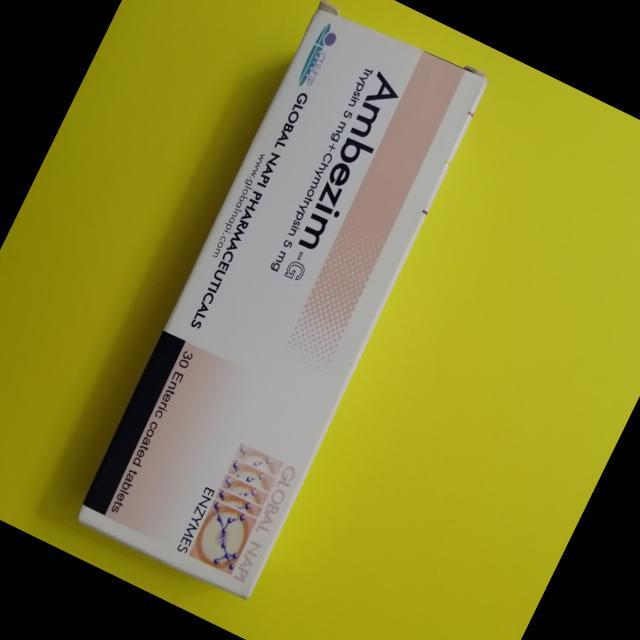Medicine Name: (286, 60, 413, 266)
